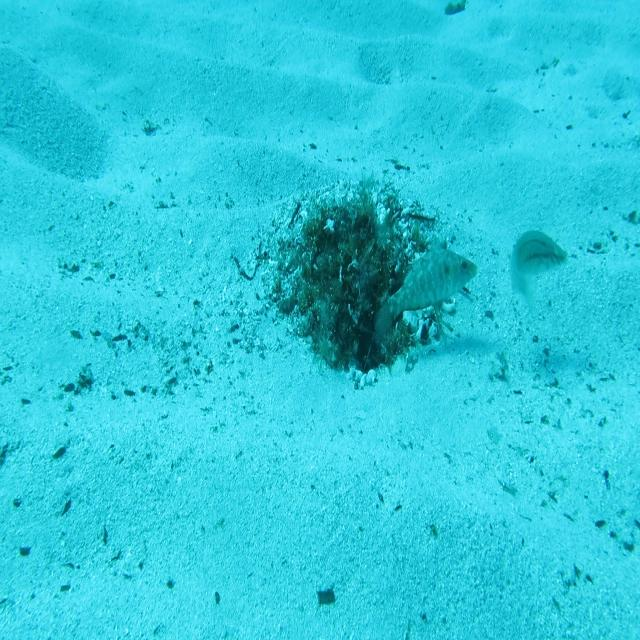MAF: (372, 232, 480, 339)
core_nest: (328, 213, 374, 263)
female: (509, 226, 569, 320)
nest: (253, 157, 472, 404)
vegetation: (441, 0, 467, 17), (316, 588, 337, 608)
